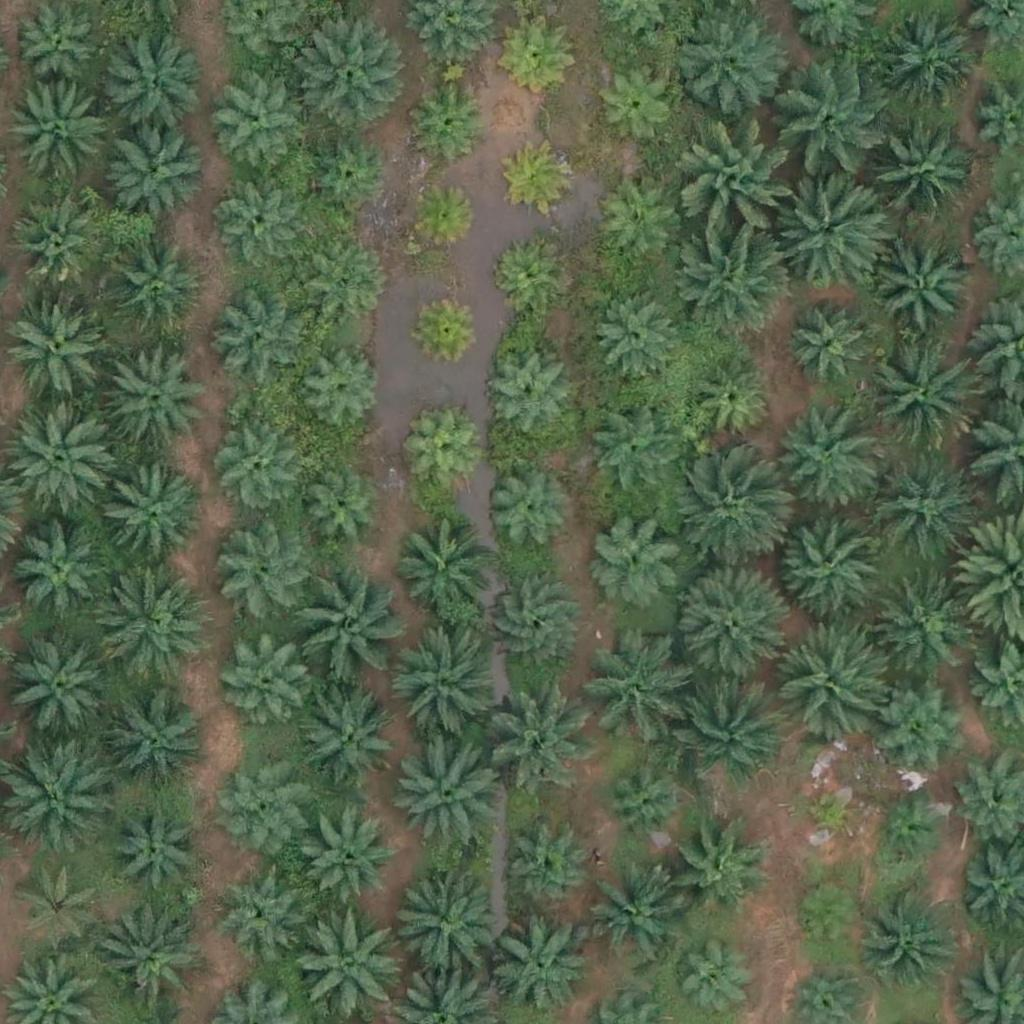Kelapa_Sawit: (385, 734, 498, 848), (862, 120, 975, 234), (863, 339, 976, 452), (867, 451, 980, 564), (774, 506, 887, 619), (671, 567, 784, 680), (382, 865, 495, 978), (94, 464, 207, 577), (95, 573, 208, 686), (5, 630, 118, 743), (779, 66, 892, 179), (678, 224, 791, 337), (293, 15, 406, 128), (671, 669, 783, 783), (388, 630, 500, 744), (290, 907, 402, 1021), (684, 128, 796, 242), (767, 407, 879, 520), (772, 624, 884, 737), (669, 458, 781, 571), (482, 675, 594, 788), (286, 569, 398, 682), (6, 408, 118, 521), (3, 746, 115, 859), (774, 171, 886, 284), (671, 2, 783, 115), (871, 572, 971, 673), (873, 673, 973, 774), (665, 821, 765, 922), (579, 870, 679, 971), (579, 642, 679, 743), (489, 918, 589, 1019), (392, 518, 492, 619), (295, 686, 395, 787), (216, 523, 316, 624), (105, 343, 205, 444), (99, 916, 199, 1017), (12, 523, 112, 624), (874, 236, 974, 337), (101, 35, 201, 136), (106, 118, 206, 219), (6, 291, 106, 392), (105, 235, 205, 336), (212, 287, 312, 388), (8, 83, 108, 184), (864, 887, 964, 988), (586, 508, 686, 608), (484, 576, 584, 676), (875, 14, 975, 114), (106, 691, 205, 792), (686, 357, 774, 445), (600, 759, 688, 847), (481, 350, 569, 438), (307, 819, 395, 907), (207, 422, 295, 510), (303, 130, 391, 218), (303, 248, 391, 336), (786, 302, 874, 390), (589, 58, 677, 146), (594, 181, 682, 269), (213, 86, 301, 174), (214, 178, 302, 266), (586, 407, 673, 496), (18, 862, 105, 951), (483, 466, 570, 554), (505, 828, 592, 916), (299, 346, 386, 434), (296, 470, 383, 558), (210, 865, 297, 953), (219, 753, 306, 841), (222, 638, 309, 726), (113, 804, 200, 892), (593, 290, 680, 378), (11, 200, 98, 288), (488, 236, 563, 312), (671, 945, 746, 1021), (872, 793, 947, 869), (791, 880, 866, 956), (405, 416, 480, 492), (410, 289, 485, 365), (503, 140, 578, 216), (413, 82, 488, 157), (405, 179, 480, 254), (503, 18, 578, 93), (798, 781, 860, 844)
